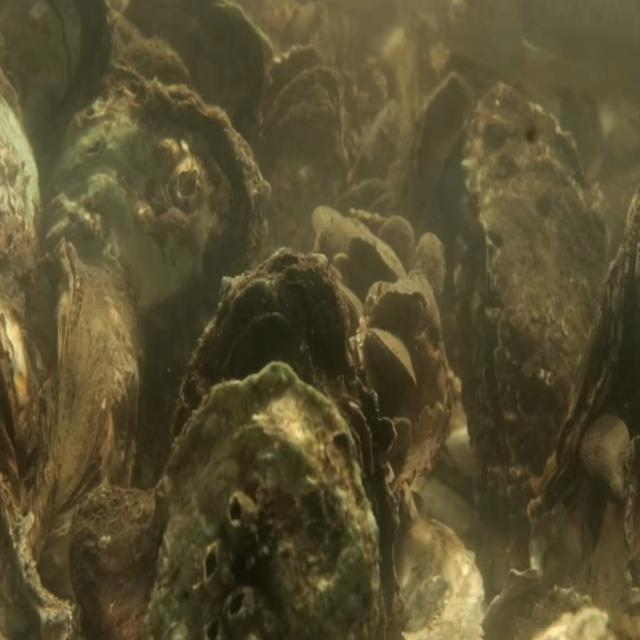Oyster-Closed: (42, 74, 267, 484), (167, 248, 398, 640), (455, 80, 610, 523), (146, 358, 385, 640), (522, 178, 640, 591), (366, 322, 415, 386), (372, 280, 429, 328)
Oyster-Indeterminate: (29, 236, 141, 640), (394, 69, 472, 304), (344, 230, 404, 284), (374, 214, 415, 286), (412, 230, 445, 306)
Oyster-Open: (252, 42, 349, 248)
